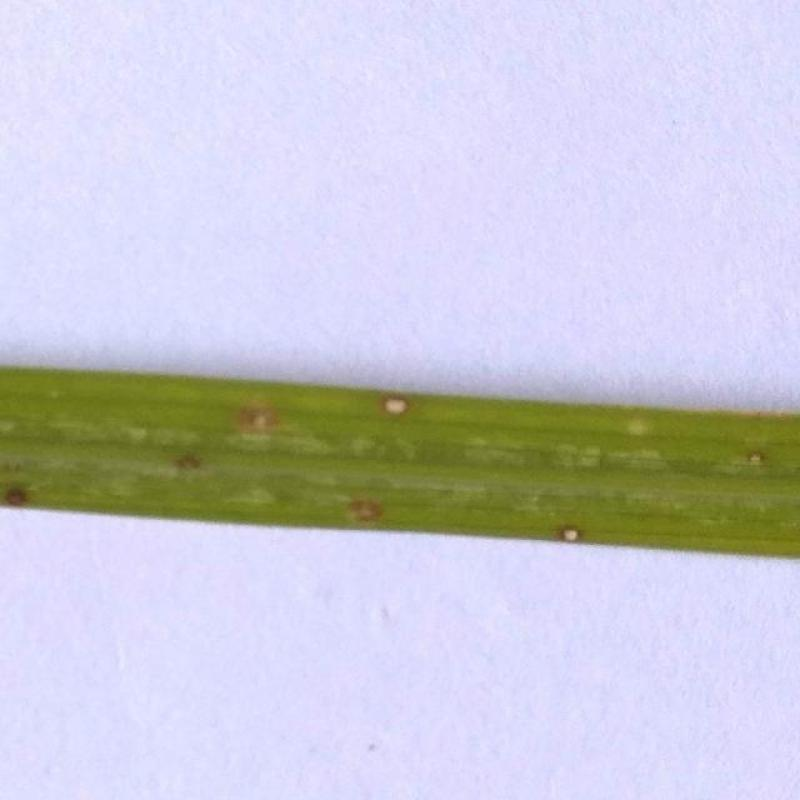Leaf_Blast: (109, 379, 339, 450), (507, 492, 622, 592), (281, 470, 425, 515), (712, 419, 796, 485), (3, 462, 102, 512), (360, 372, 436, 434)
